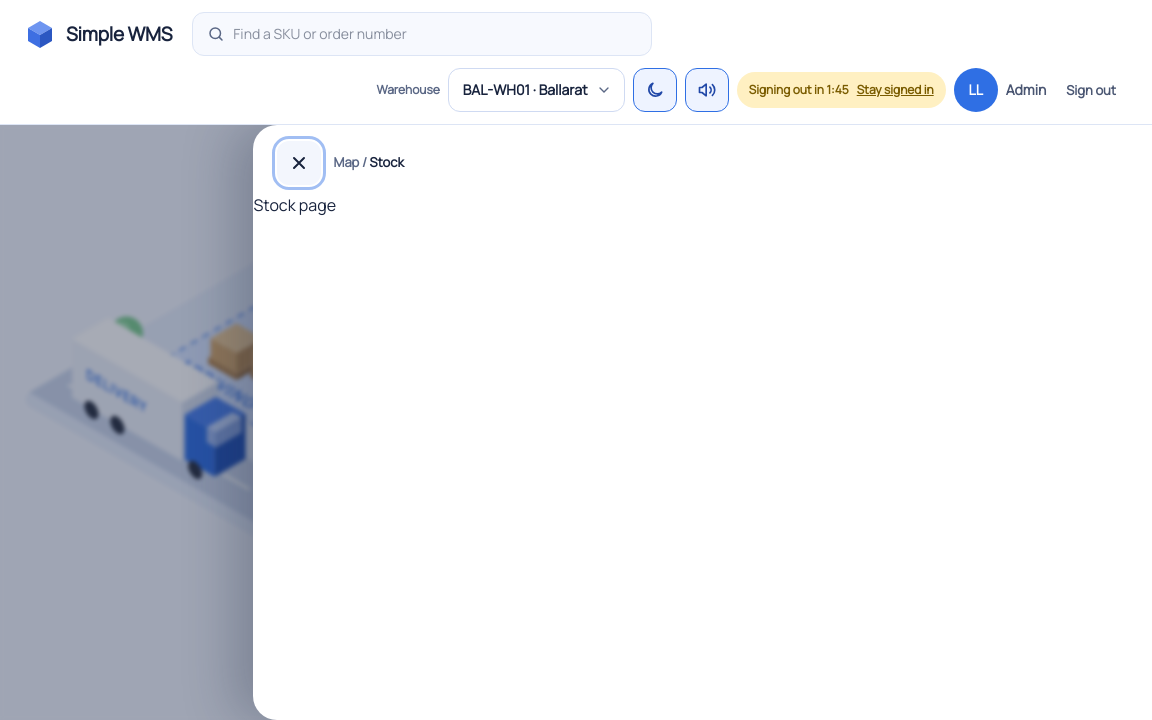
Test: Shell idle logout › clears the warning when someone says they are still there
This screenshot has width=1152, height=720.
Check: the text "Stock page" is shown, box [254,194,336,216]
Check: the text "Signing out in 1:45" is shown, box [749,82,849,98]
Step 1. Click the button "Stay signed in" → point(895, 90), box [857,78,934,102]
Wait 60000 ms
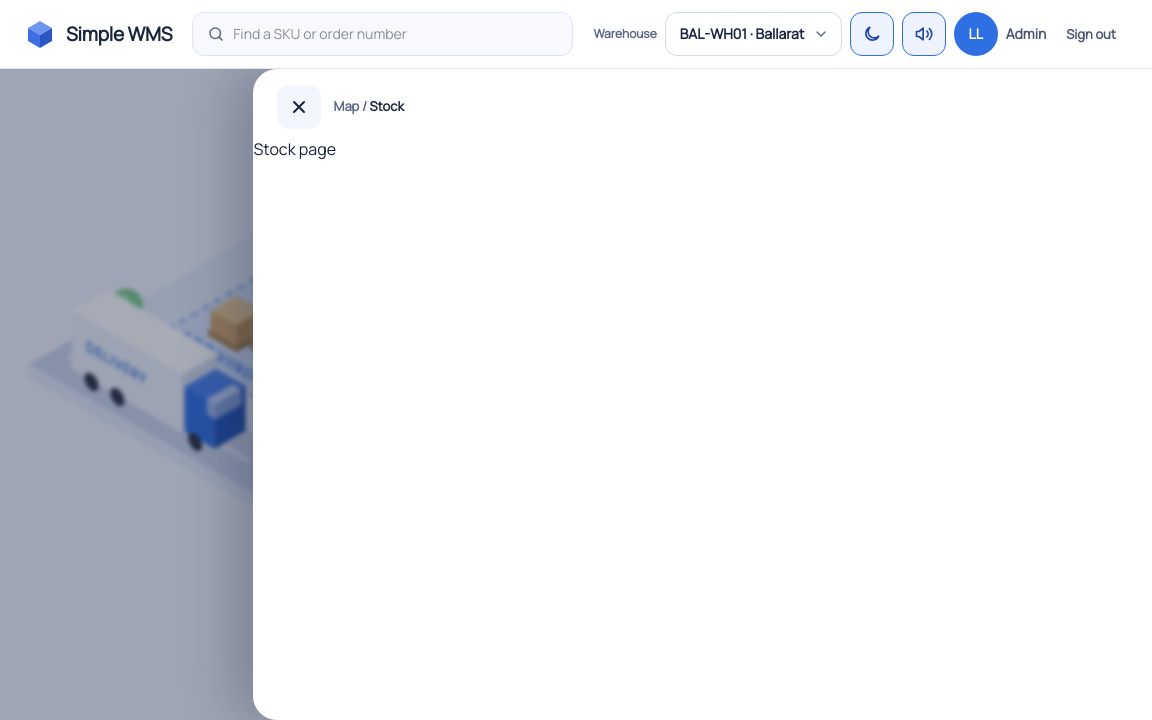
Check: the text "Stock page" is shown, box [254,138,336,160]
Check: the text "Signing out in" is gone
